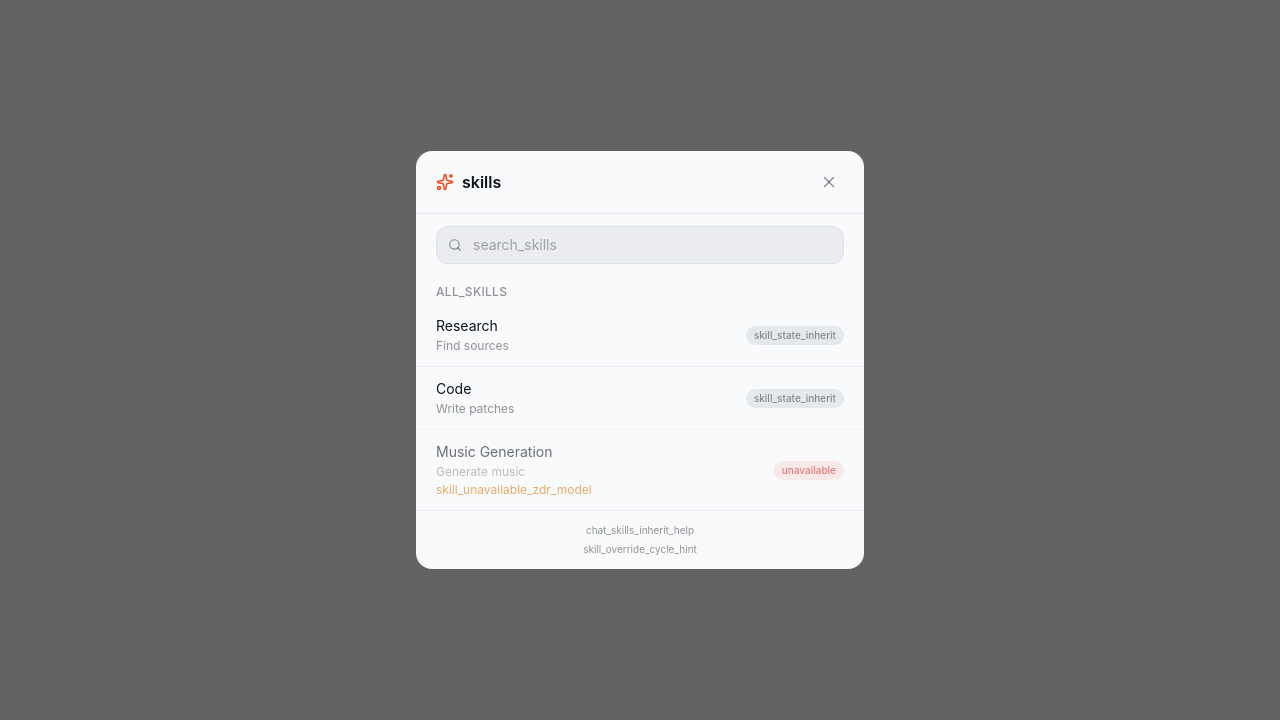
Test: ChatSkillsPicker › trims whitespace before filtering skills
This screenshot has width=1280, height=720.
Type "  code  " into the search field at (640, 245), box [436, 226, 844, 264]
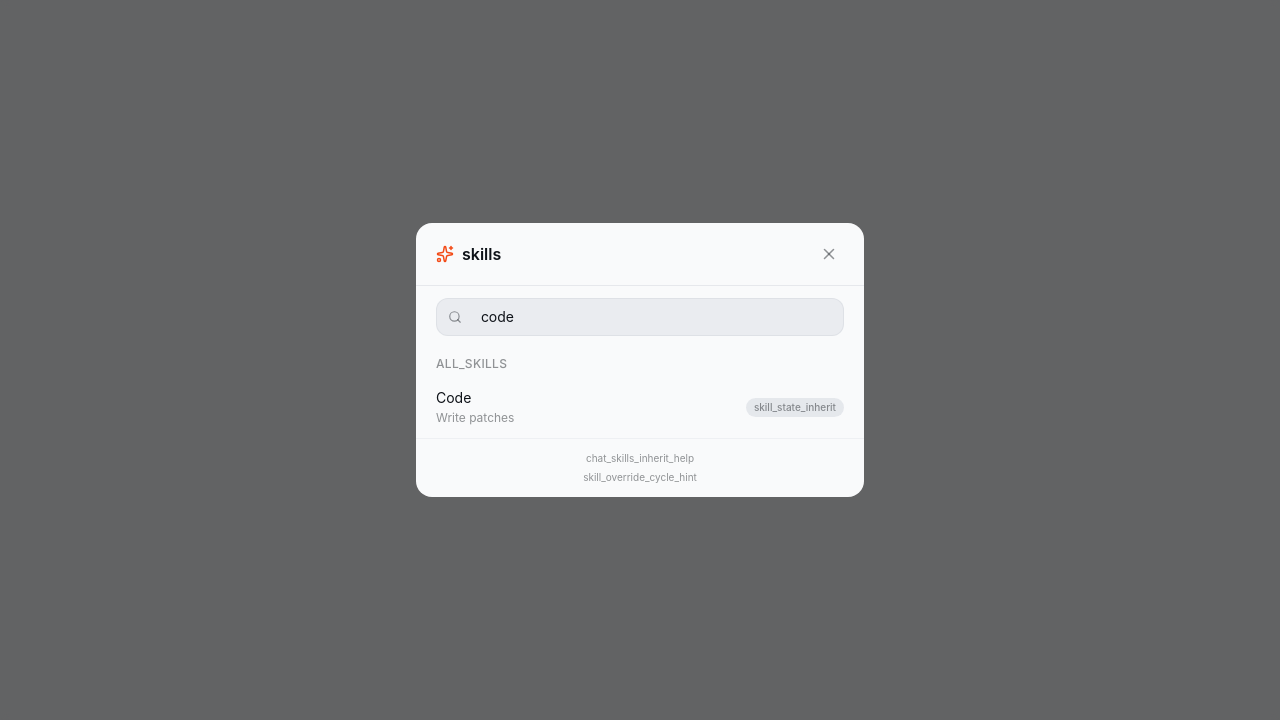
Expected: the text "Code" is shown, [436, 389, 471, 406]
Expected: the button "Research" is gone
